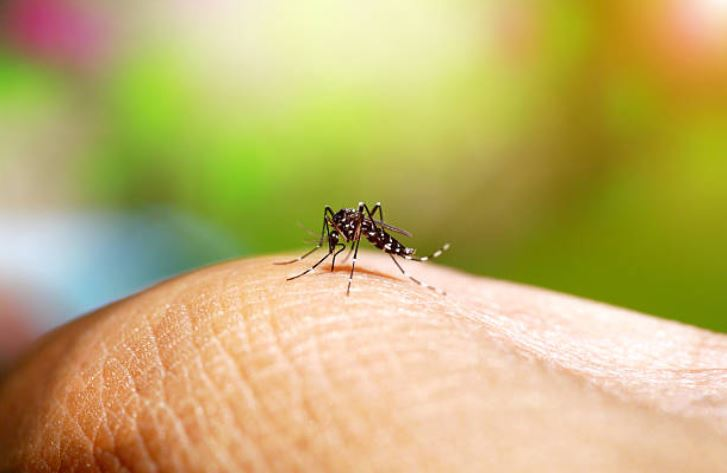dengue_mosquito: (272, 200, 450, 298)
